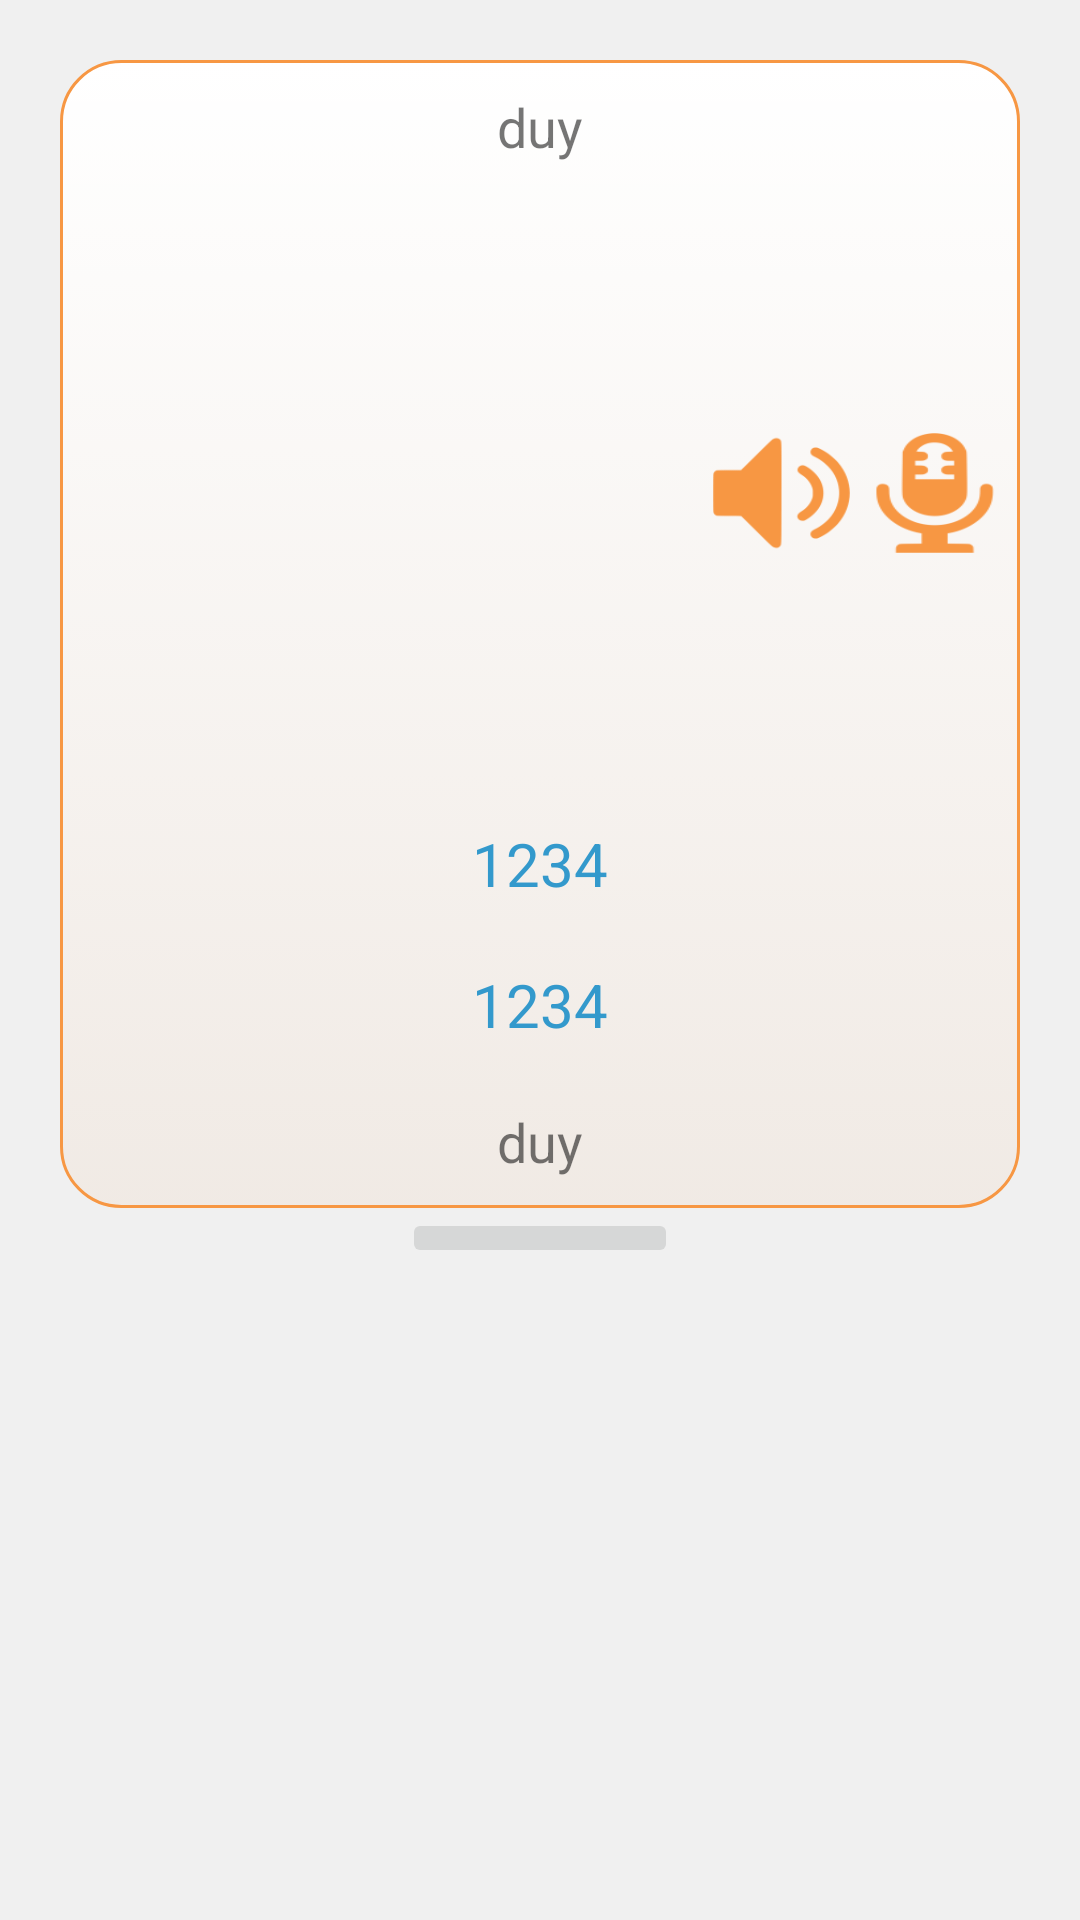

Locate icon controls on the screen. Image size 1080px x 1920px, boxes as (x1, y1, x2, y2).
micro: (876, 433, 994, 553)
speaker: (713, 438, 850, 549)
